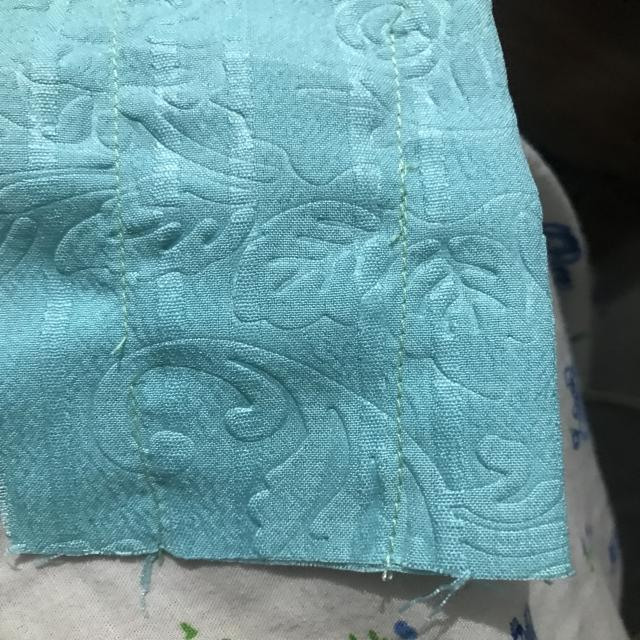broken: (91, 327, 182, 403)
good: (388, 270, 414, 358)
